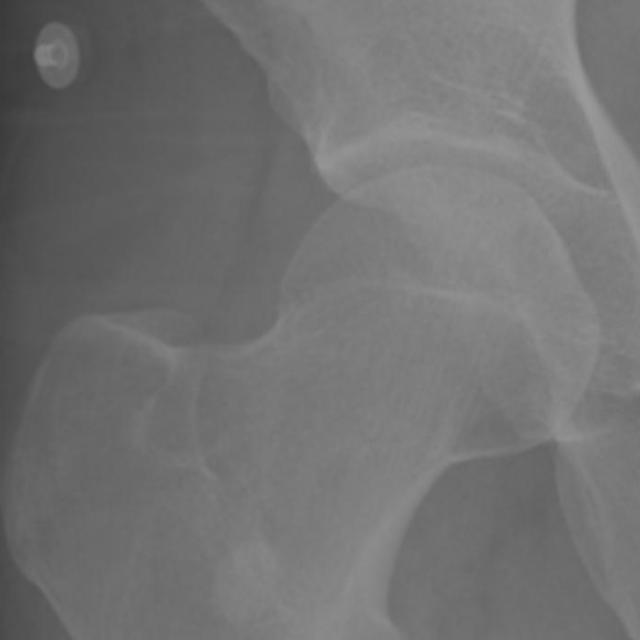Fitted_femural_head: (309, 165, 432, 309)
